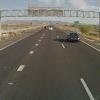Car: (64, 29, 82, 44)
